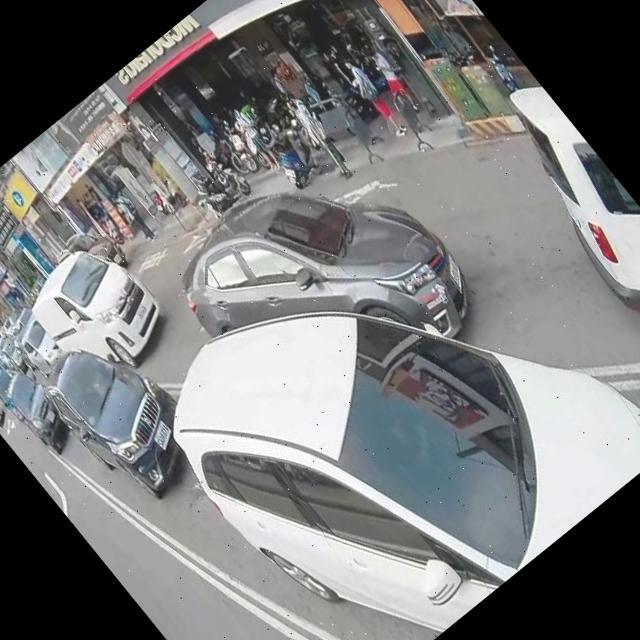person: (352, 34, 438, 132), (336, 52, 416, 145), (282, 92, 360, 181), (226, 102, 286, 171), (111, 186, 161, 244)
